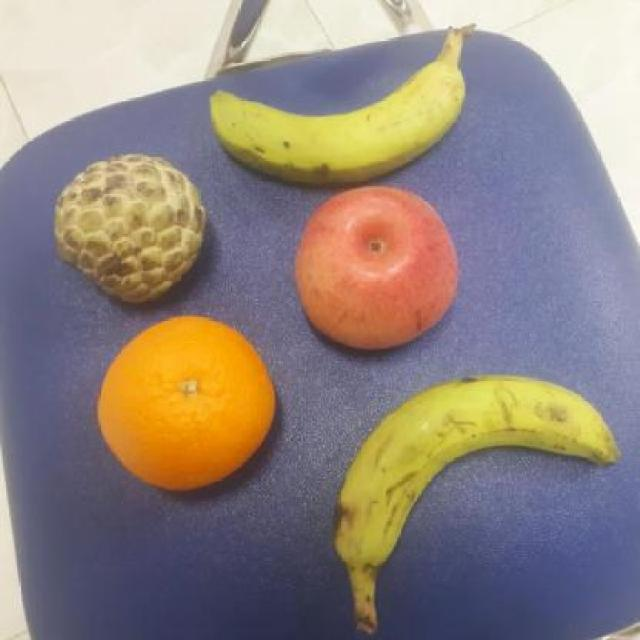apple: (295, 184, 459, 348)
banana: (334, 373, 621, 635), (205, 21, 477, 184)
oren: (99, 316, 278, 492)
sugar apple: (56, 150, 206, 302)
